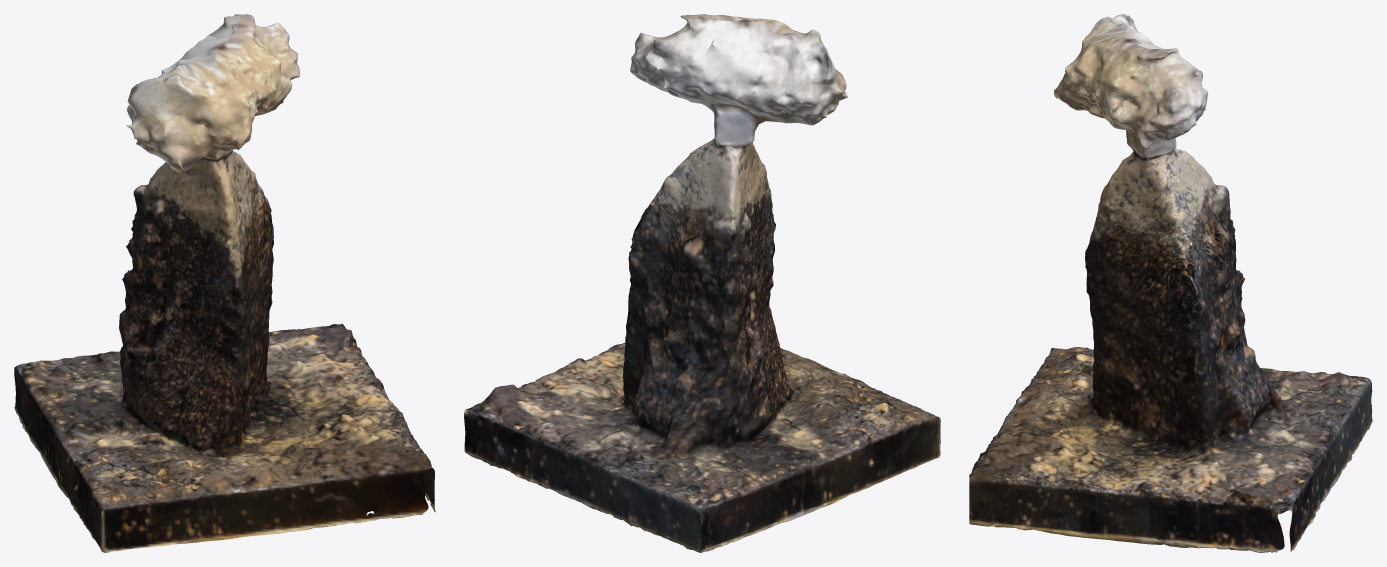
File: sinai.glb
3 views of the same model, side by side, from view 1: azimuth 30°, elevation 25°; view 2: azimuth 150°, elevation 25°; view 3: azimuth 270°, elevation 25° (orthographic). The views are drawn at different scales.
Parts seen in each view (by area): view 1: Geom; view 2: Geom; view 3: Geom.
Part boxes in pixels (<box>): Geom: <box>14,14,435,552</box>; Geom: <box>464,14,940,552</box>; Geom: <box>969,14,1372,552</box>.
Bounding box in the file's own units: 0.3237 × 0.3777 × 0.3214.
Materials: 1 (1 with a texture image).
